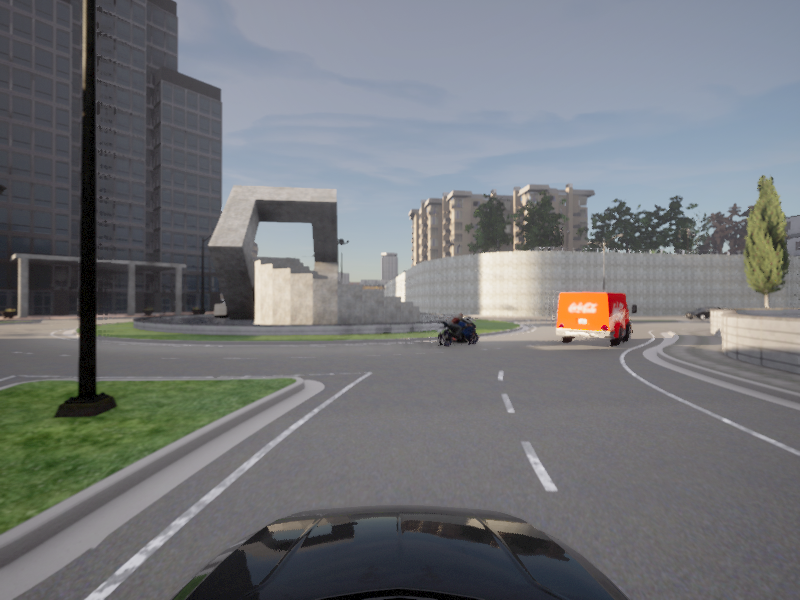vehicle: (552, 291, 639, 349), (433, 312, 484, 348)
